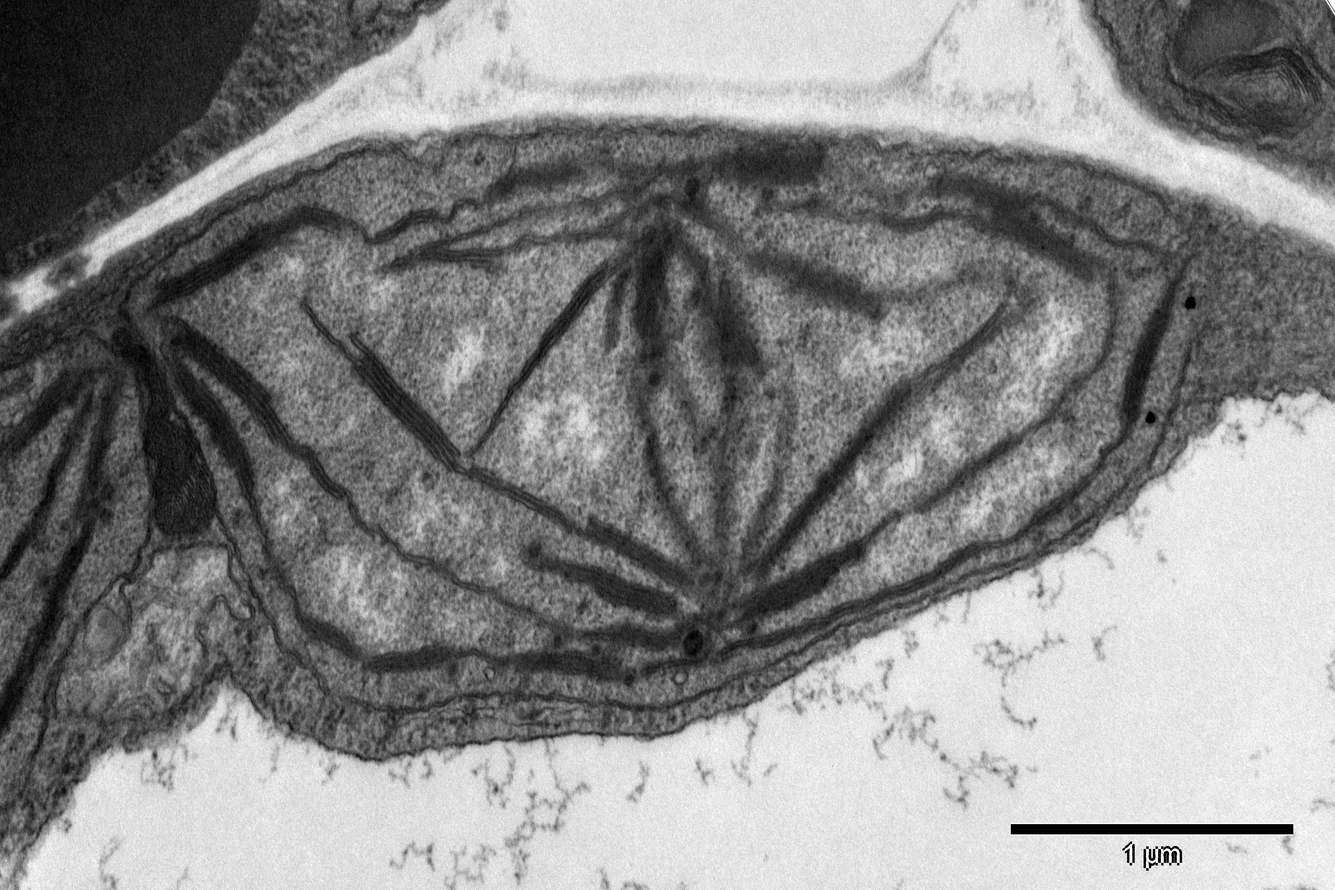granum: (755, 370, 920, 576), (921, 171, 1106, 289), (151, 201, 347, 307), (0, 536, 92, 746), (170, 320, 295, 451), (349, 347, 462, 465), (168, 360, 262, 500), (743, 234, 884, 323), (519, 546, 681, 620), (749, 531, 872, 623), (0, 359, 93, 472), (68, 367, 128, 527), (534, 252, 623, 357), (578, 512, 692, 591), (627, 225, 683, 364), (1117, 303, 1176, 427), (480, 152, 589, 211), (717, 138, 835, 191), (710, 283, 762, 372), (509, 646, 626, 683), (335, 648, 406, 701), (412, 682, 498, 721), (607, 617, 688, 653), (404, 235, 445, 270), (467, 244, 498, 271)
